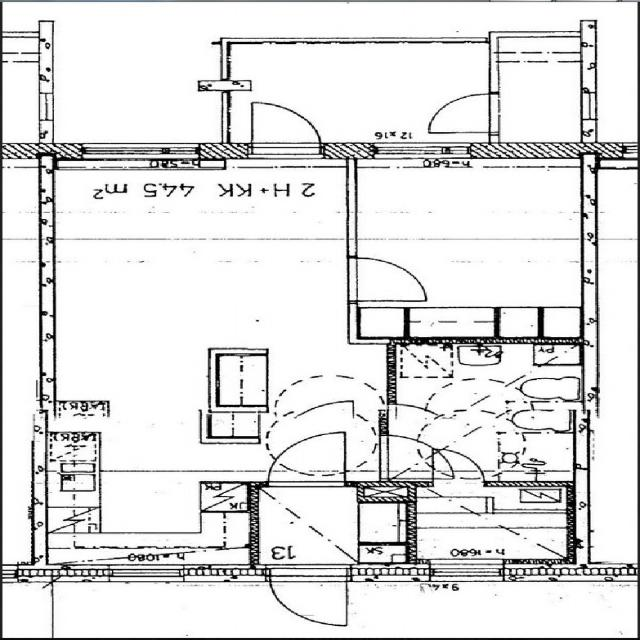door: (270, 564, 346, 630), (268, 433, 345, 487), (252, 100, 320, 158), (348, 258, 424, 301), (387, 436, 462, 478), (430, 94, 499, 132), (432, 449, 484, 487)
